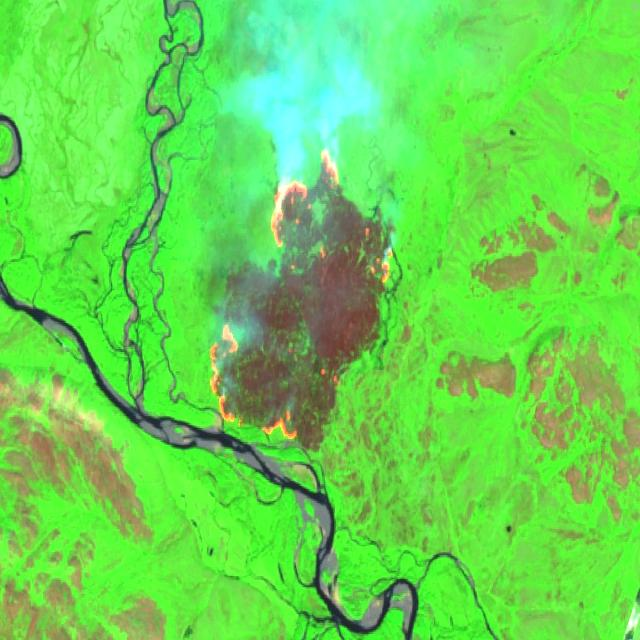fire: (206, 141, 397, 450)
